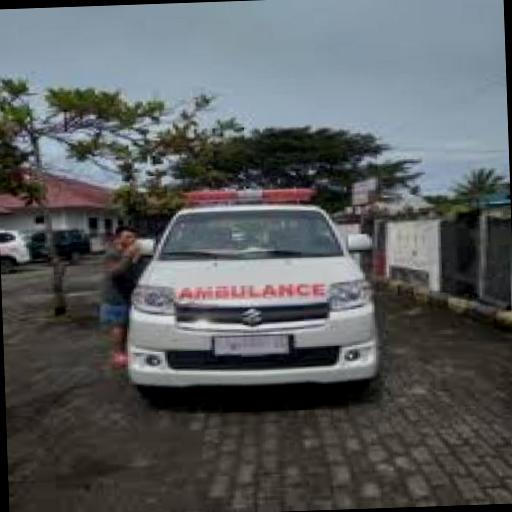Police car: (127, 184, 382, 402)
